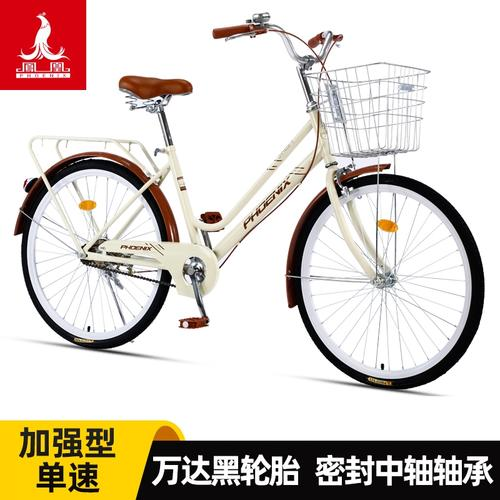单车: (10, 10, 492, 407)
